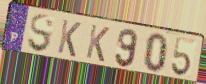0: (141, 32, 170, 75)
5: (170, 35, 199, 78)
9: (114, 27, 139, 69)
K: (84, 23, 111, 64), (56, 18, 82, 59)
S: (26, 14, 56, 55)
